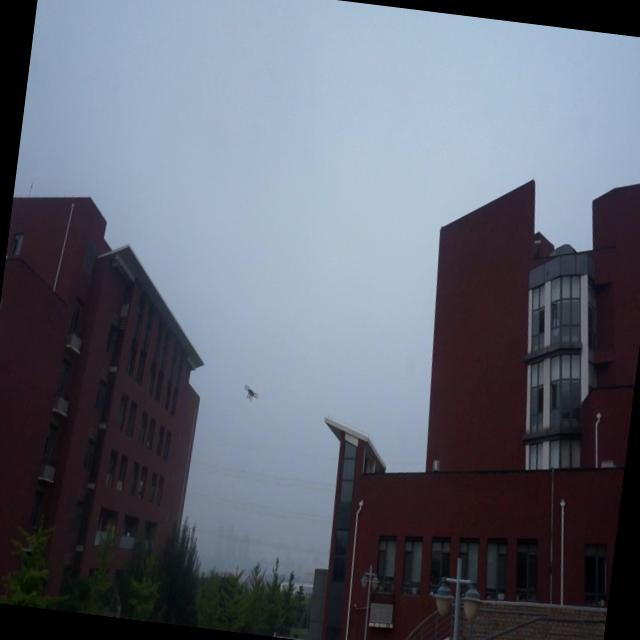drone: (240, 378, 262, 406)
